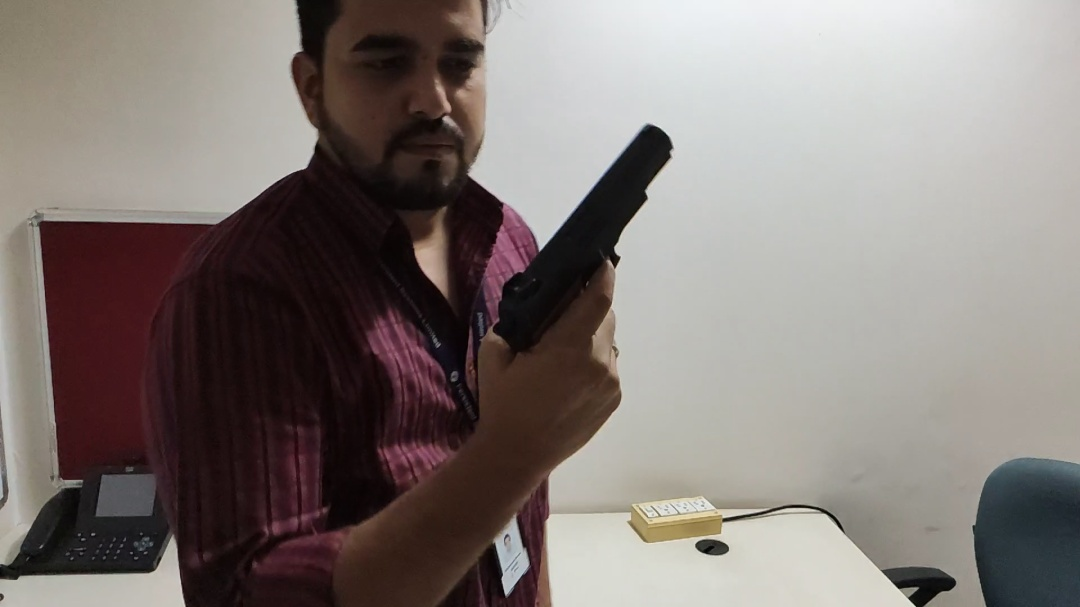gun: (494, 123, 716, 393)
